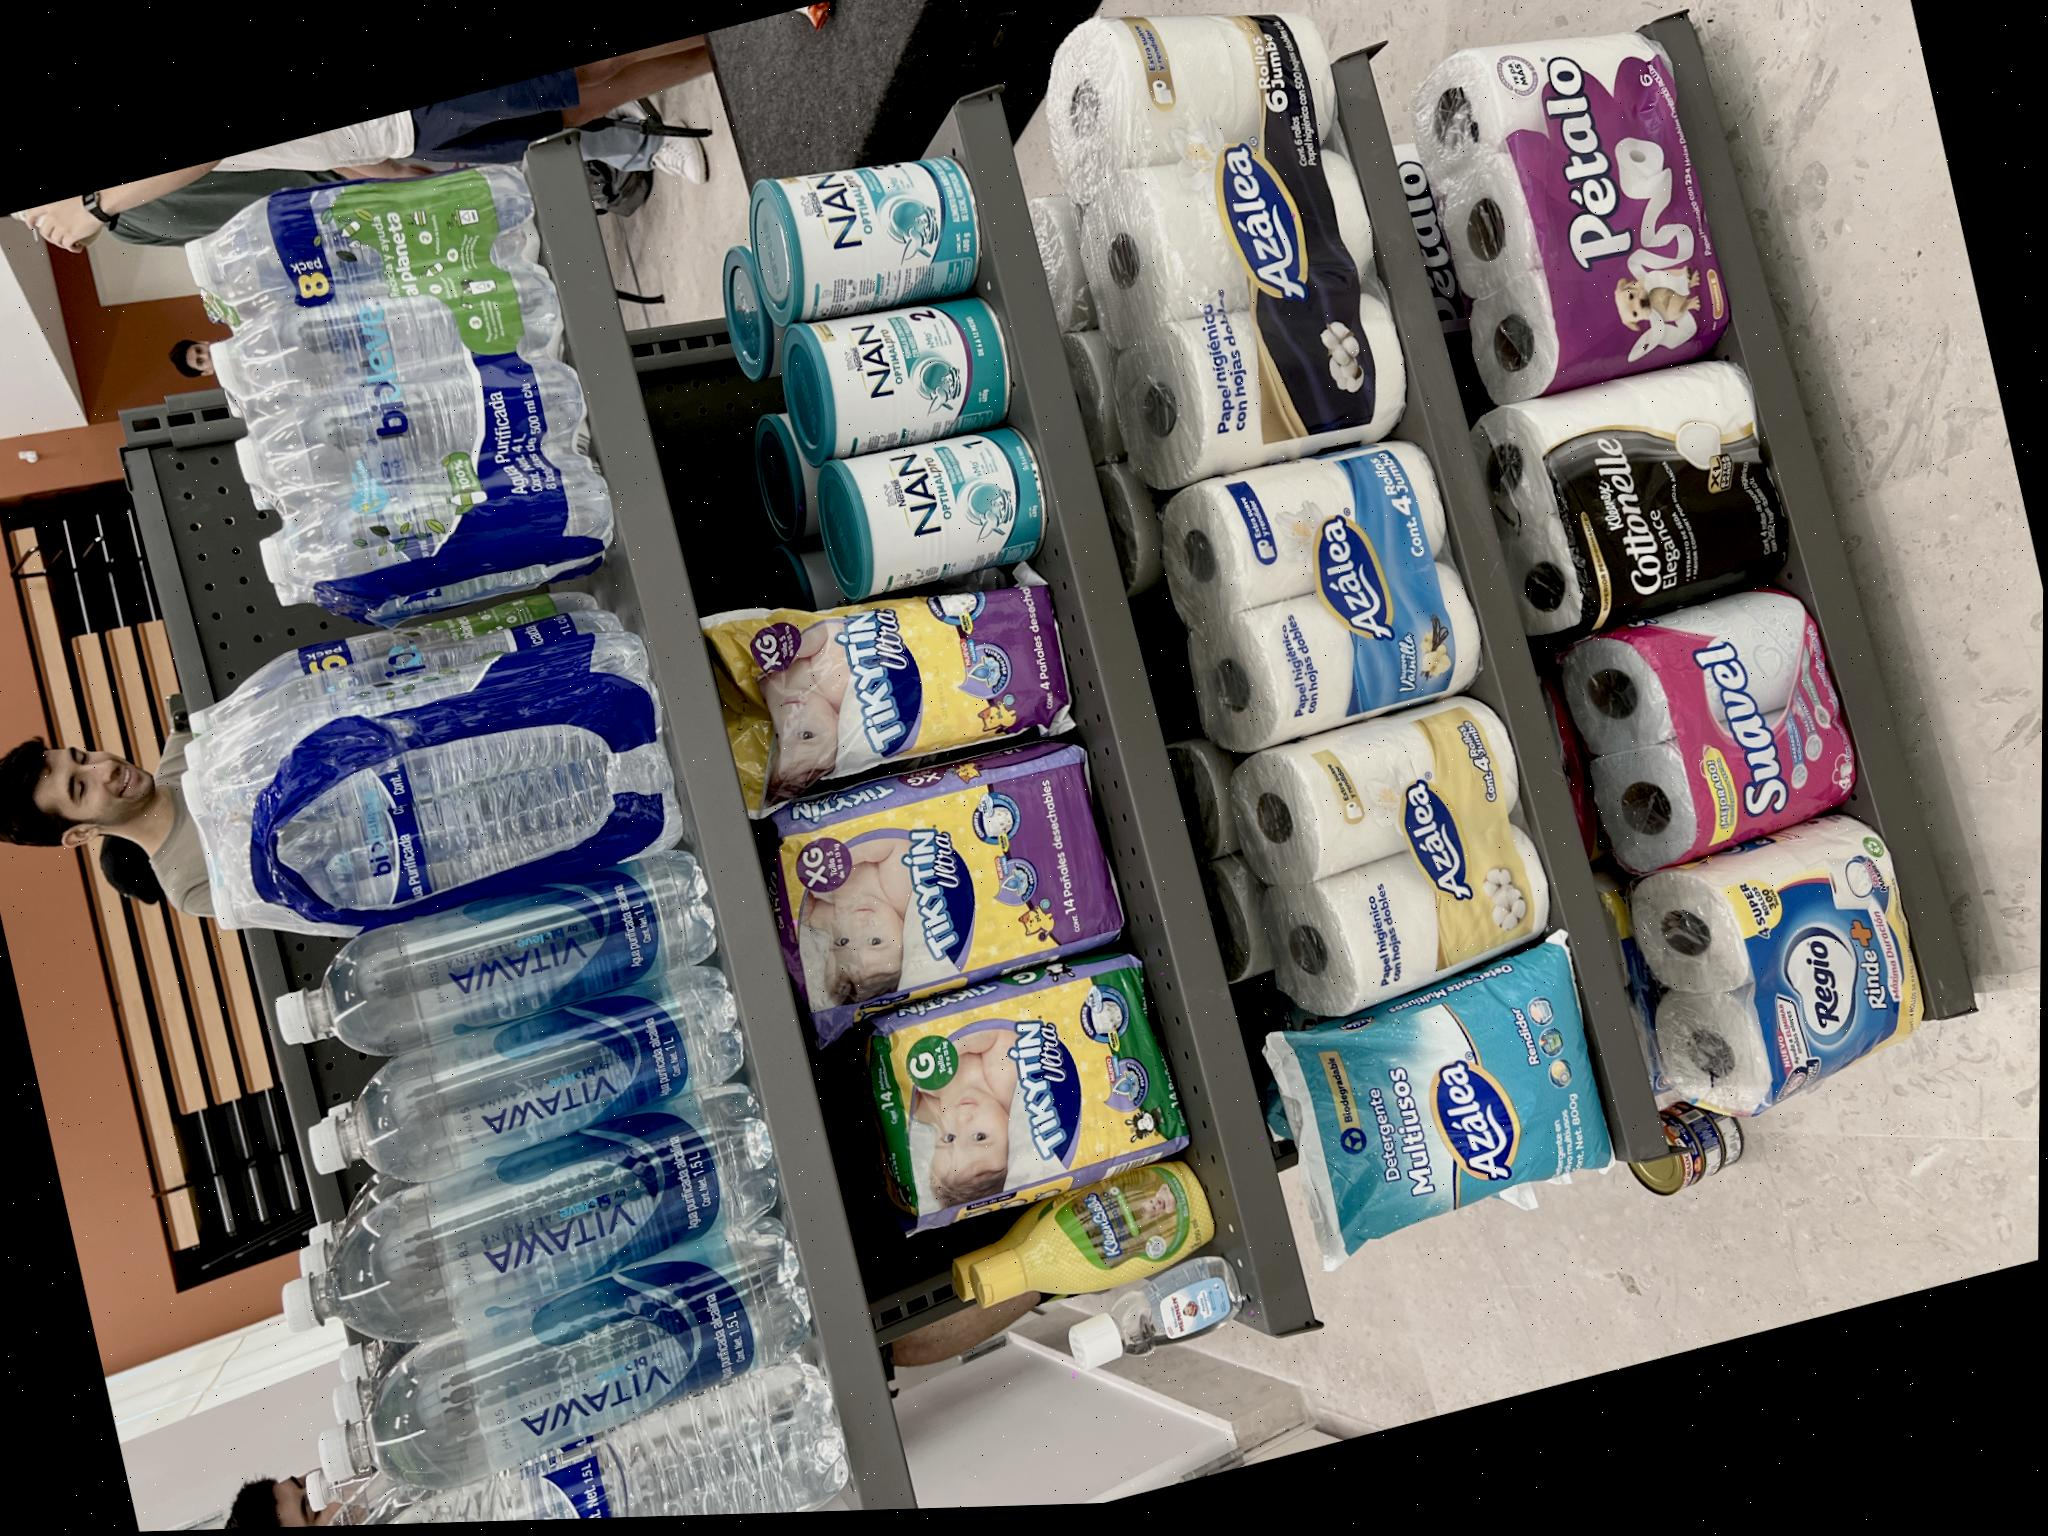aceite_bebe_mennen: (174, 1105, 313, 1309)
agua_bioleve: (0, 358, 213, 920)
agua_bioleve_6pack: (958, 192, 1426, 650), (639, 197, 995, 731)
agua_vitawa_1L: (514, 305, 743, 771), (397, 350, 616, 807)
agua_vitawa_1_5L: (81, 357, 363, 887), (235, 326, 502, 852)
detergente_azaela: (276, 1305, 582, 1526)
nan_nestle_1: (963, 833, 1143, 1086)
nan_nestle_2: (1100, 786, 1279, 1034)
nan_nestle_3: (1243, 752, 1414, 1004)
panales_tikytin_extragrande: (539, 795, 832, 1171), (758, 731, 990, 1107)
panales_tikytin_grande: (323, 899, 613, 1247)
papelhigenico_azaela_6rollos: (1071, 1083, 1551, 1442)
papelhigenico_azaela_amarillo: (531, 1291, 858, 1518)
papelhigenico_azaela_azul: (801, 1210, 1114, 1510)
shampoo_bebe: (253, 1016, 398, 1283)
